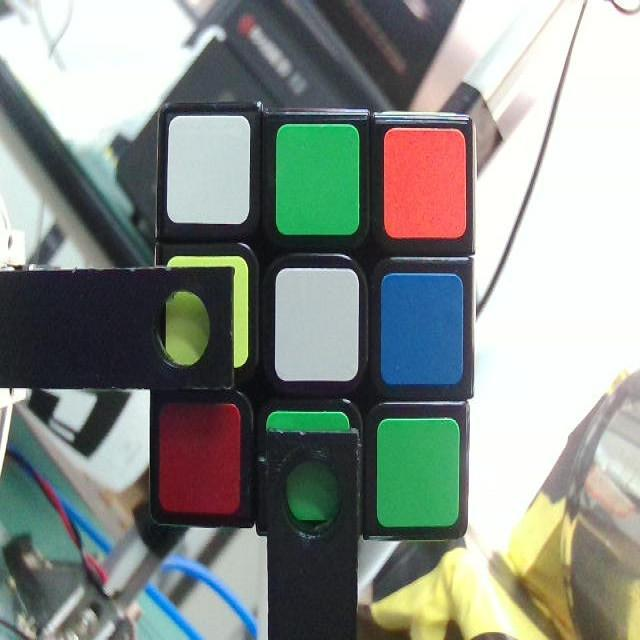b: (384, 278, 460, 381)
g: (267, 415, 351, 526), (377, 424, 457, 524), (280, 126, 356, 231)
o: (385, 127, 463, 236)
r: (161, 408, 237, 509)
w: (278, 269, 359, 379), (171, 117, 248, 219)
y: (167, 257, 248, 362)
